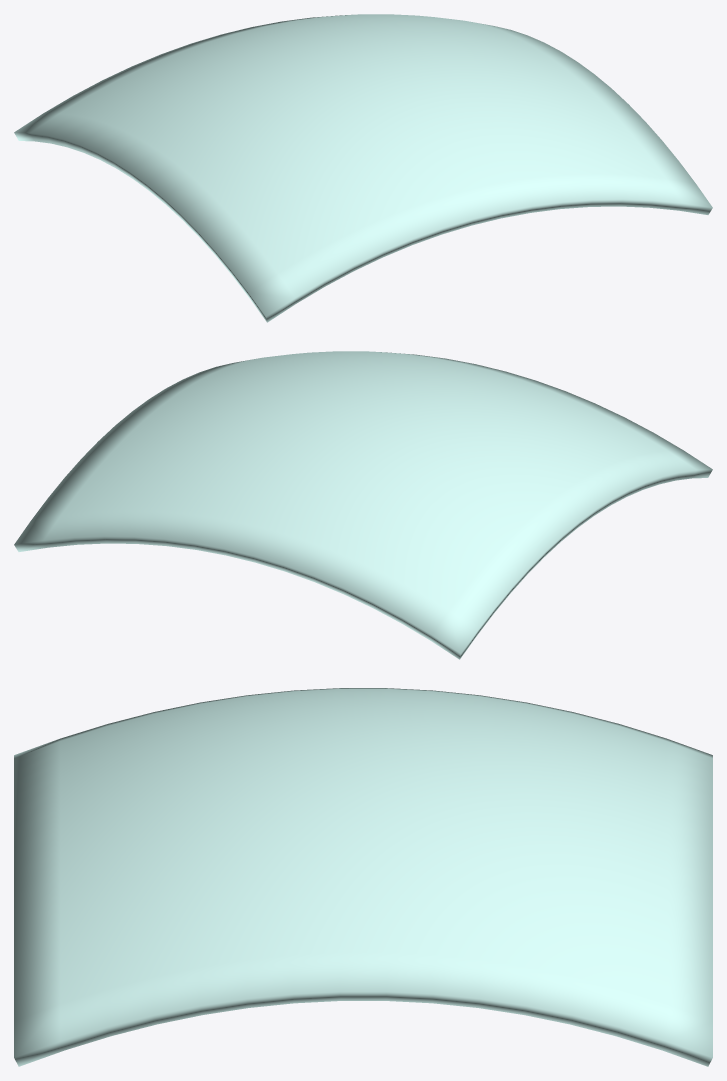
File: FloatingPaper.fbx
3 renders of one model, top to bottom at view 1: azimuth 30°, elevation 25°; view 2: azimuth 150°, elevation 25°; view 3: azimuth 270°, elevation 25°, orthographic. The views are drawn at different scales.
Visible parts, largest first — view 1: SurfPatch; view 2: SurfPatch; view 3: SurfPatch.
Part boxes in pixels (x1,y1,x2,y2): SurfPatch: [14, 14, 712, 322]; SurfPatch: [14, 351, 712, 659]; SurfPatch: [14, 688, 712, 1066].
Size of the model in its own units: 103 by 24.04 by 100.
